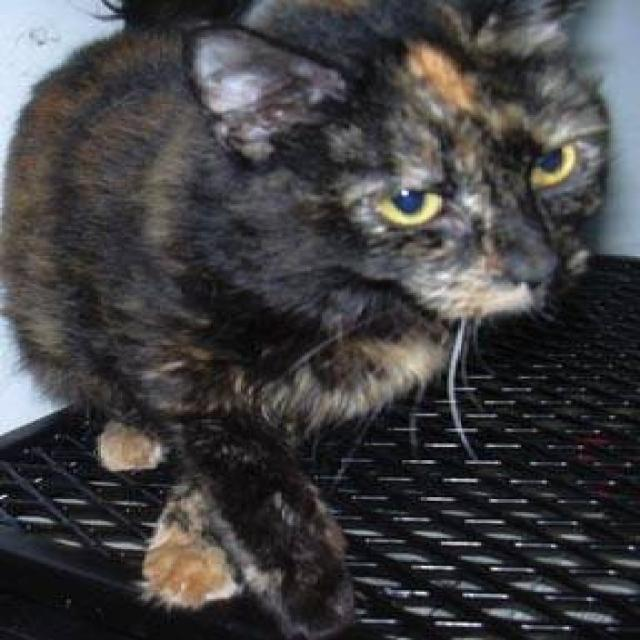cat: (0, 0, 611, 638)
